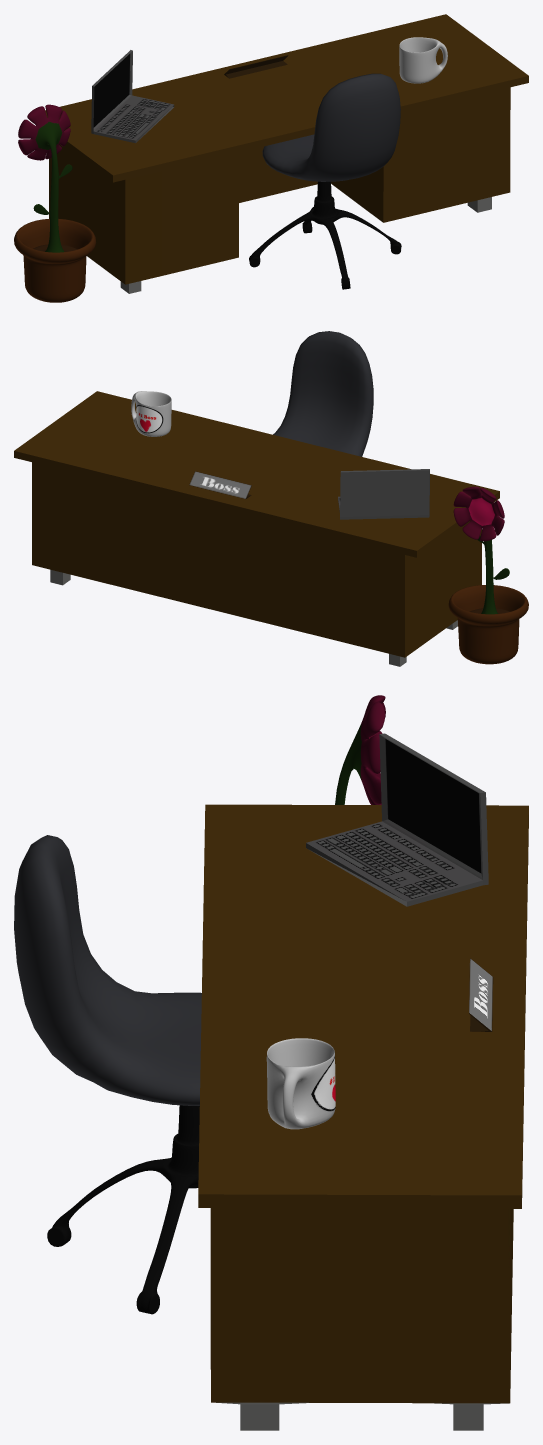
The model's file is MainRoomDesk.fbx.
The picture shows the model from 3 angles, top to bottom: view 1: azimuth 30°, elevation 25°; view 2: azimuth 150°, elevation 25°; view 3: azimuth 270°, elevation 25°; orthographic projection. The views are drawn at different scales.
Visible parts, largest first — view 1: pasted__Desk, pasted__Chair, pasted__Pot, pasted__Laptop, pasted__Plant, pasted__CoffeMug, pasted__NameTag; view 2: pasted__Desk, pasted__Chair, pasted__Pot, pasted__Laptop, pasted__Plant, pasted__CoffeMug, pasted__NameTag; view 3: pasted__Desk, pasted__Chair, pasted__Laptop, pasted__CoffeMug, pasted__Plant, pasted__NameTag.
Part boxes in pixels (x1,y1,x2,y2): pasted__Desk: (32,14,528,293); pasted__Chair: (249,73,401,289); pasted__Pot: (14,218,95,302); pasted__Laptop: (91,50,174,143); pasted__Plant: (18,104,77,252); pasted__CoffeMug: (399,37,447,83); pasted__NameTag: (224,55,288,78); pasted__Desk: (14,391,499,666); pasted__Chair: (273,331,373,456); pasted__Pot: (448,585,528,664); pasted__Laptop: (338,469,429,519); pasted__Plant: (453,486,509,614); pasted__CoffeMug: (131,391,171,436); pasted__NameTag: (189,471,251,499); pasted__Desk: (198,804,528,1430); pasted__Chair: (14,835,201,1314); pasted__Laptop: (306,733,488,906); pasted__CoffeMug: (266,1038,335,1129); pasted__Plant: (335,695,385,804); pasted__NameTag: (469,958,493,1031).
Size of the model in its own units: 3.37 by 1.48 by 1.64.
Materials: 7 (7 with a texture image).
